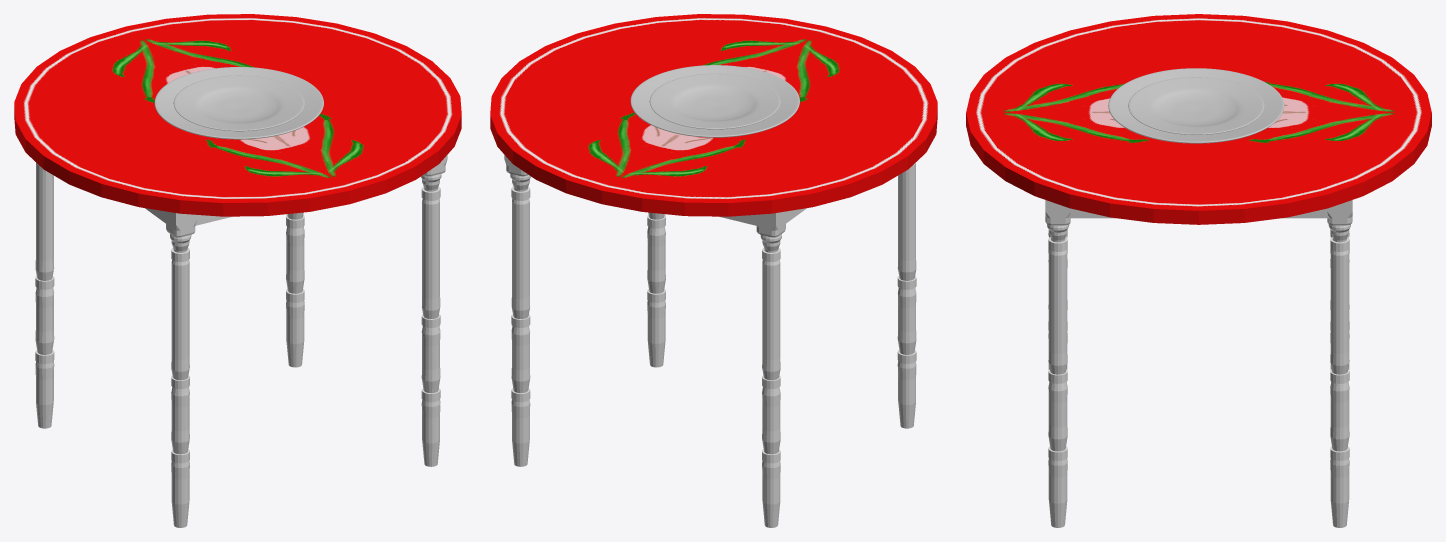
The model's file is mesasevillana_platos.fbx.
The picture shows the model from 3 angles, left to right: view 1: azimuth 30°, elevation 25°; view 2: azimuth 150°, elevation 25°; view 3: azimuth 270°, elevation 25°; orthographic projection. The views are drawn at different scales.
Visible parts, largest first — view 1: Cilindro, Cubo.001, Circle005, Circle031, Anillo, Esquinas; view 2: Cilindro, Cubo.001, Circle005, Circle031, Anillo, Esquinas; view 3: Cilindro, Cubo.001, Circle005, Circle031, Anillo, Esquinas, Soporte inferior 2.
Boxes of the visible parts, bbox=[...] form: Cilindro: bbox=[14, 14, 461, 216]; Cubo.001: bbox=[35, 162, 441, 527]; Circle005: bbox=[173, 75, 304, 131]; Circle031: bbox=[154, 67, 323, 139]; Anillo: bbox=[35, 186, 440, 463]; Esquinas: bbox=[164, 155, 447, 237]; Cilindro: bbox=[490, 14, 937, 216]; Cubo.001: bbox=[510, 162, 916, 527]; Circle005: bbox=[649, 73, 780, 129]; Circle031: bbox=[630, 65, 799, 137]; Anillo: bbox=[511, 186, 916, 463]; Esquinas: bbox=[504, 155, 787, 237]; Cilindro: bbox=[966, 14, 1431, 224]; Cubo.001: bbox=[1047, 224, 1350, 527]; Circle005: bbox=[1128, 77, 1264, 134]; Circle031: bbox=[1108, 68, 1284, 143]; Anillo: bbox=[1048, 237, 1349, 460]; Esquinas: bbox=[1045, 200, 1352, 225]; Soporte inferior 2: bbox=[1068, 208, 1329, 218].
Size of the model in its own units: 60 by 60 by 50.68.
